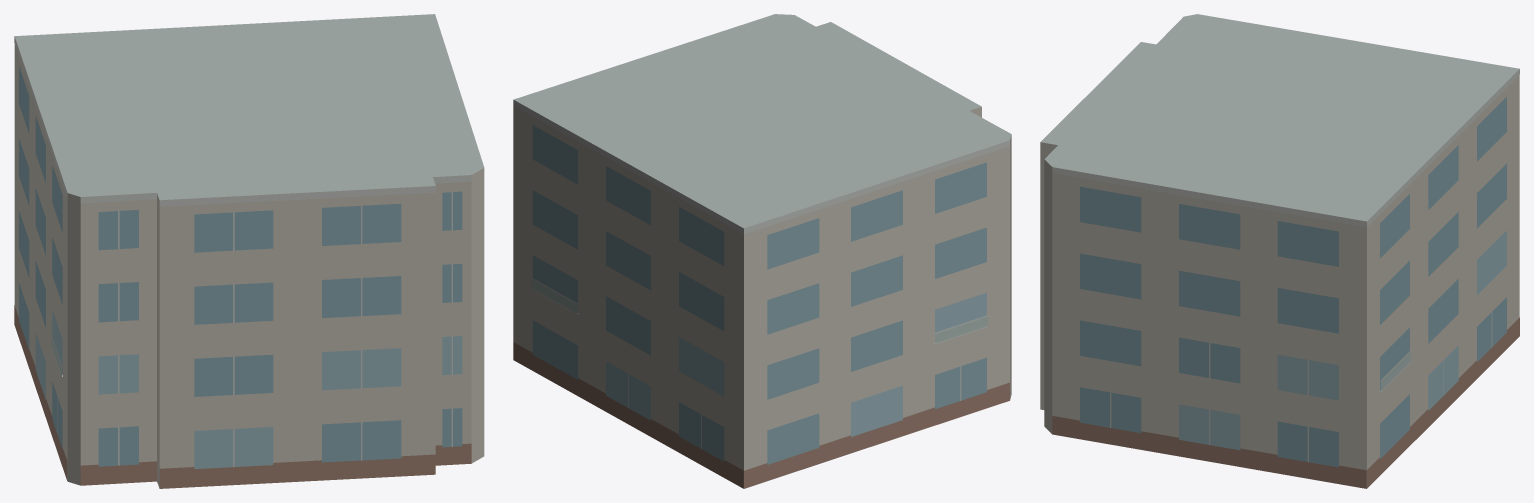
File: survey-upis-32641942.glb
The picture shows the model from 3 angles, left to right: view 1: azimuth 30°, elevation 25°; view 2: azimuth 150°, elevation 25°; view 3: azimuth 270°, elevation 25°; orthographic projection. The views are drawn at different scales.
Visible parts, largest first — view 1: survey-upis-32641942.tmp; view 2: survey-upis-32641942.tmp; view 3: survey-upis-32641942.tmp.
Part boxes in pixels (x1=…): survey-upis-32641942.tmp: x1=14, y1=14, x2=484, y2=488; survey-upis-32641942.tmp: x1=513, y1=14, x2=1011, y2=488; survey-upis-32641942.tmp: x1=1040, y1=14, x2=1519, y2=488.
Size of the model in its own units: 17.83 by 10.71 by 17.42.
